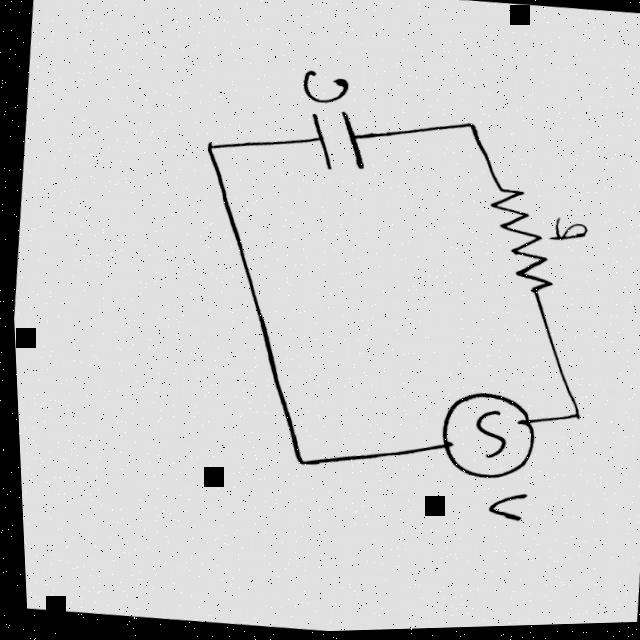capacitor: (303, 109, 365, 178)
junction: (200, 141, 216, 156), (287, 457, 305, 470), (564, 412, 579, 426), (462, 123, 474, 136)
resistor: (477, 189, 560, 301)
source: (431, 391, 535, 487)
text: (296, 70, 349, 108), (537, 218, 586, 248), (481, 493, 522, 525)
